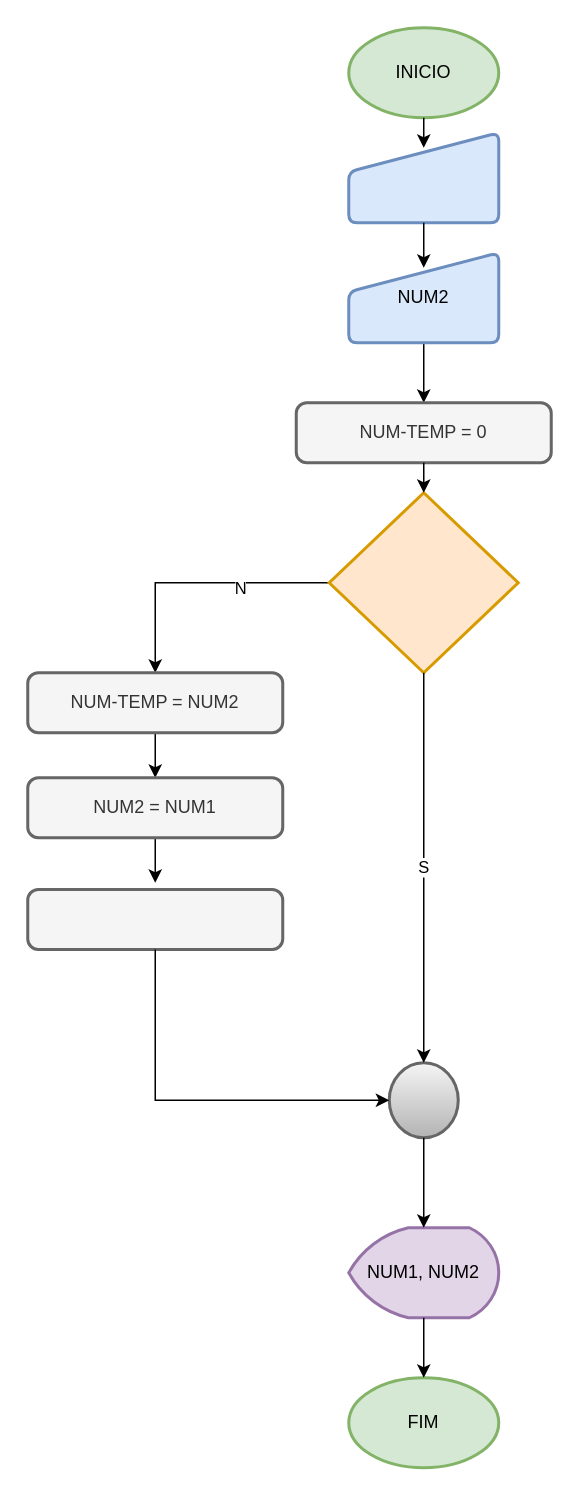
Some shapes in this 578 by 1494 pixel diagram are drawn without their labels. Each missing label, with the centre of its shape:
"NUM1" belongs at pixel 423 177.
"NUM1 = NUM-TEMP" belongs at pixel 155 918.
"NUM1 FOR IGUAL NUM2" belongs at pixel 423 582.
